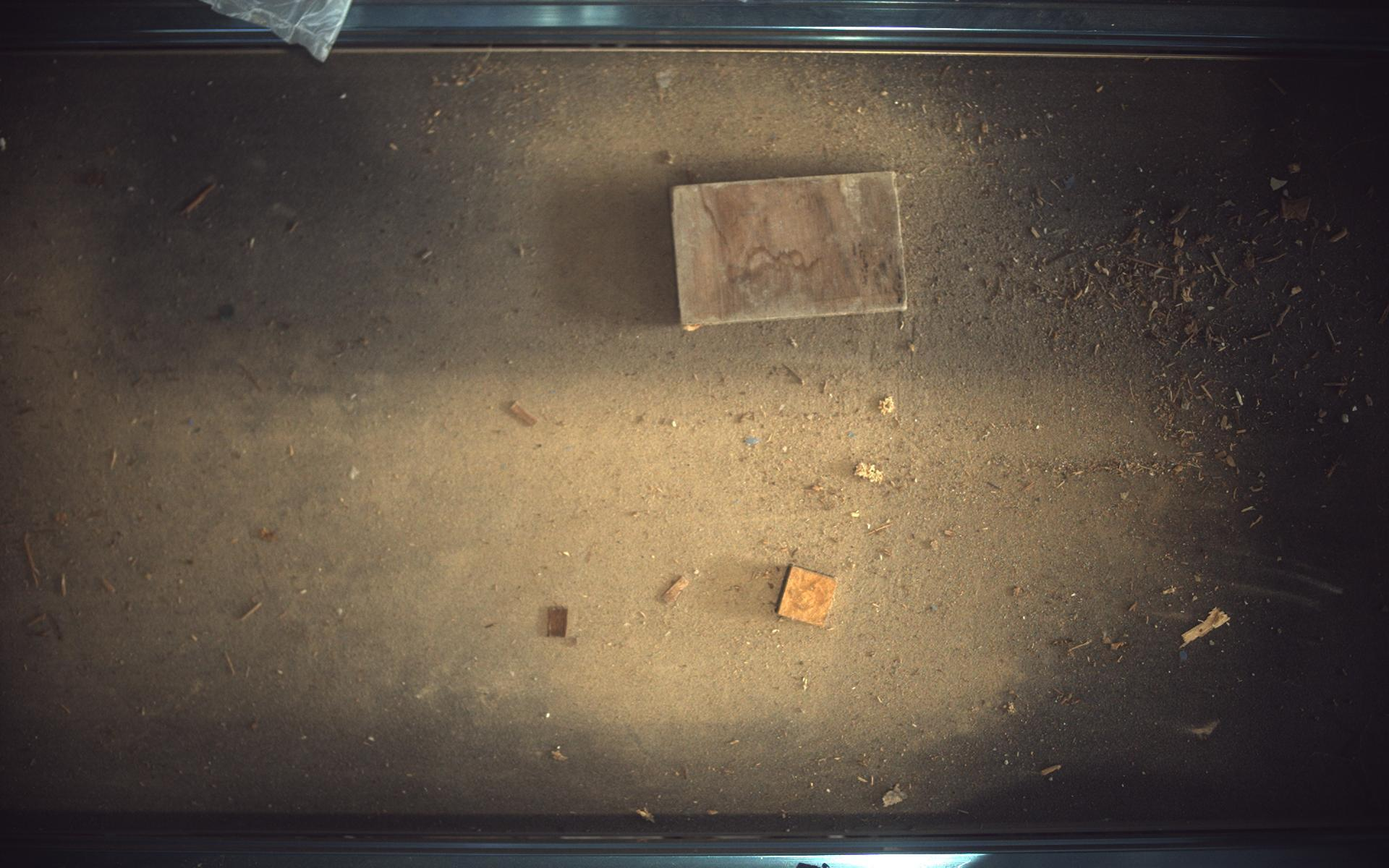wood: (673, 171, 909, 327), (779, 567, 838, 627)
